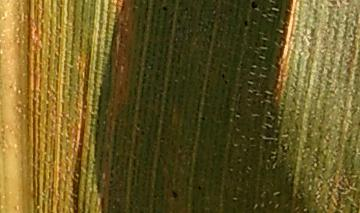tarspot: (170, 191, 179, 202), (250, 1, 259, 10), (242, 19, 250, 29), (161, 5, 168, 14), (220, 72, 226, 78), (224, 81, 230, 86)
